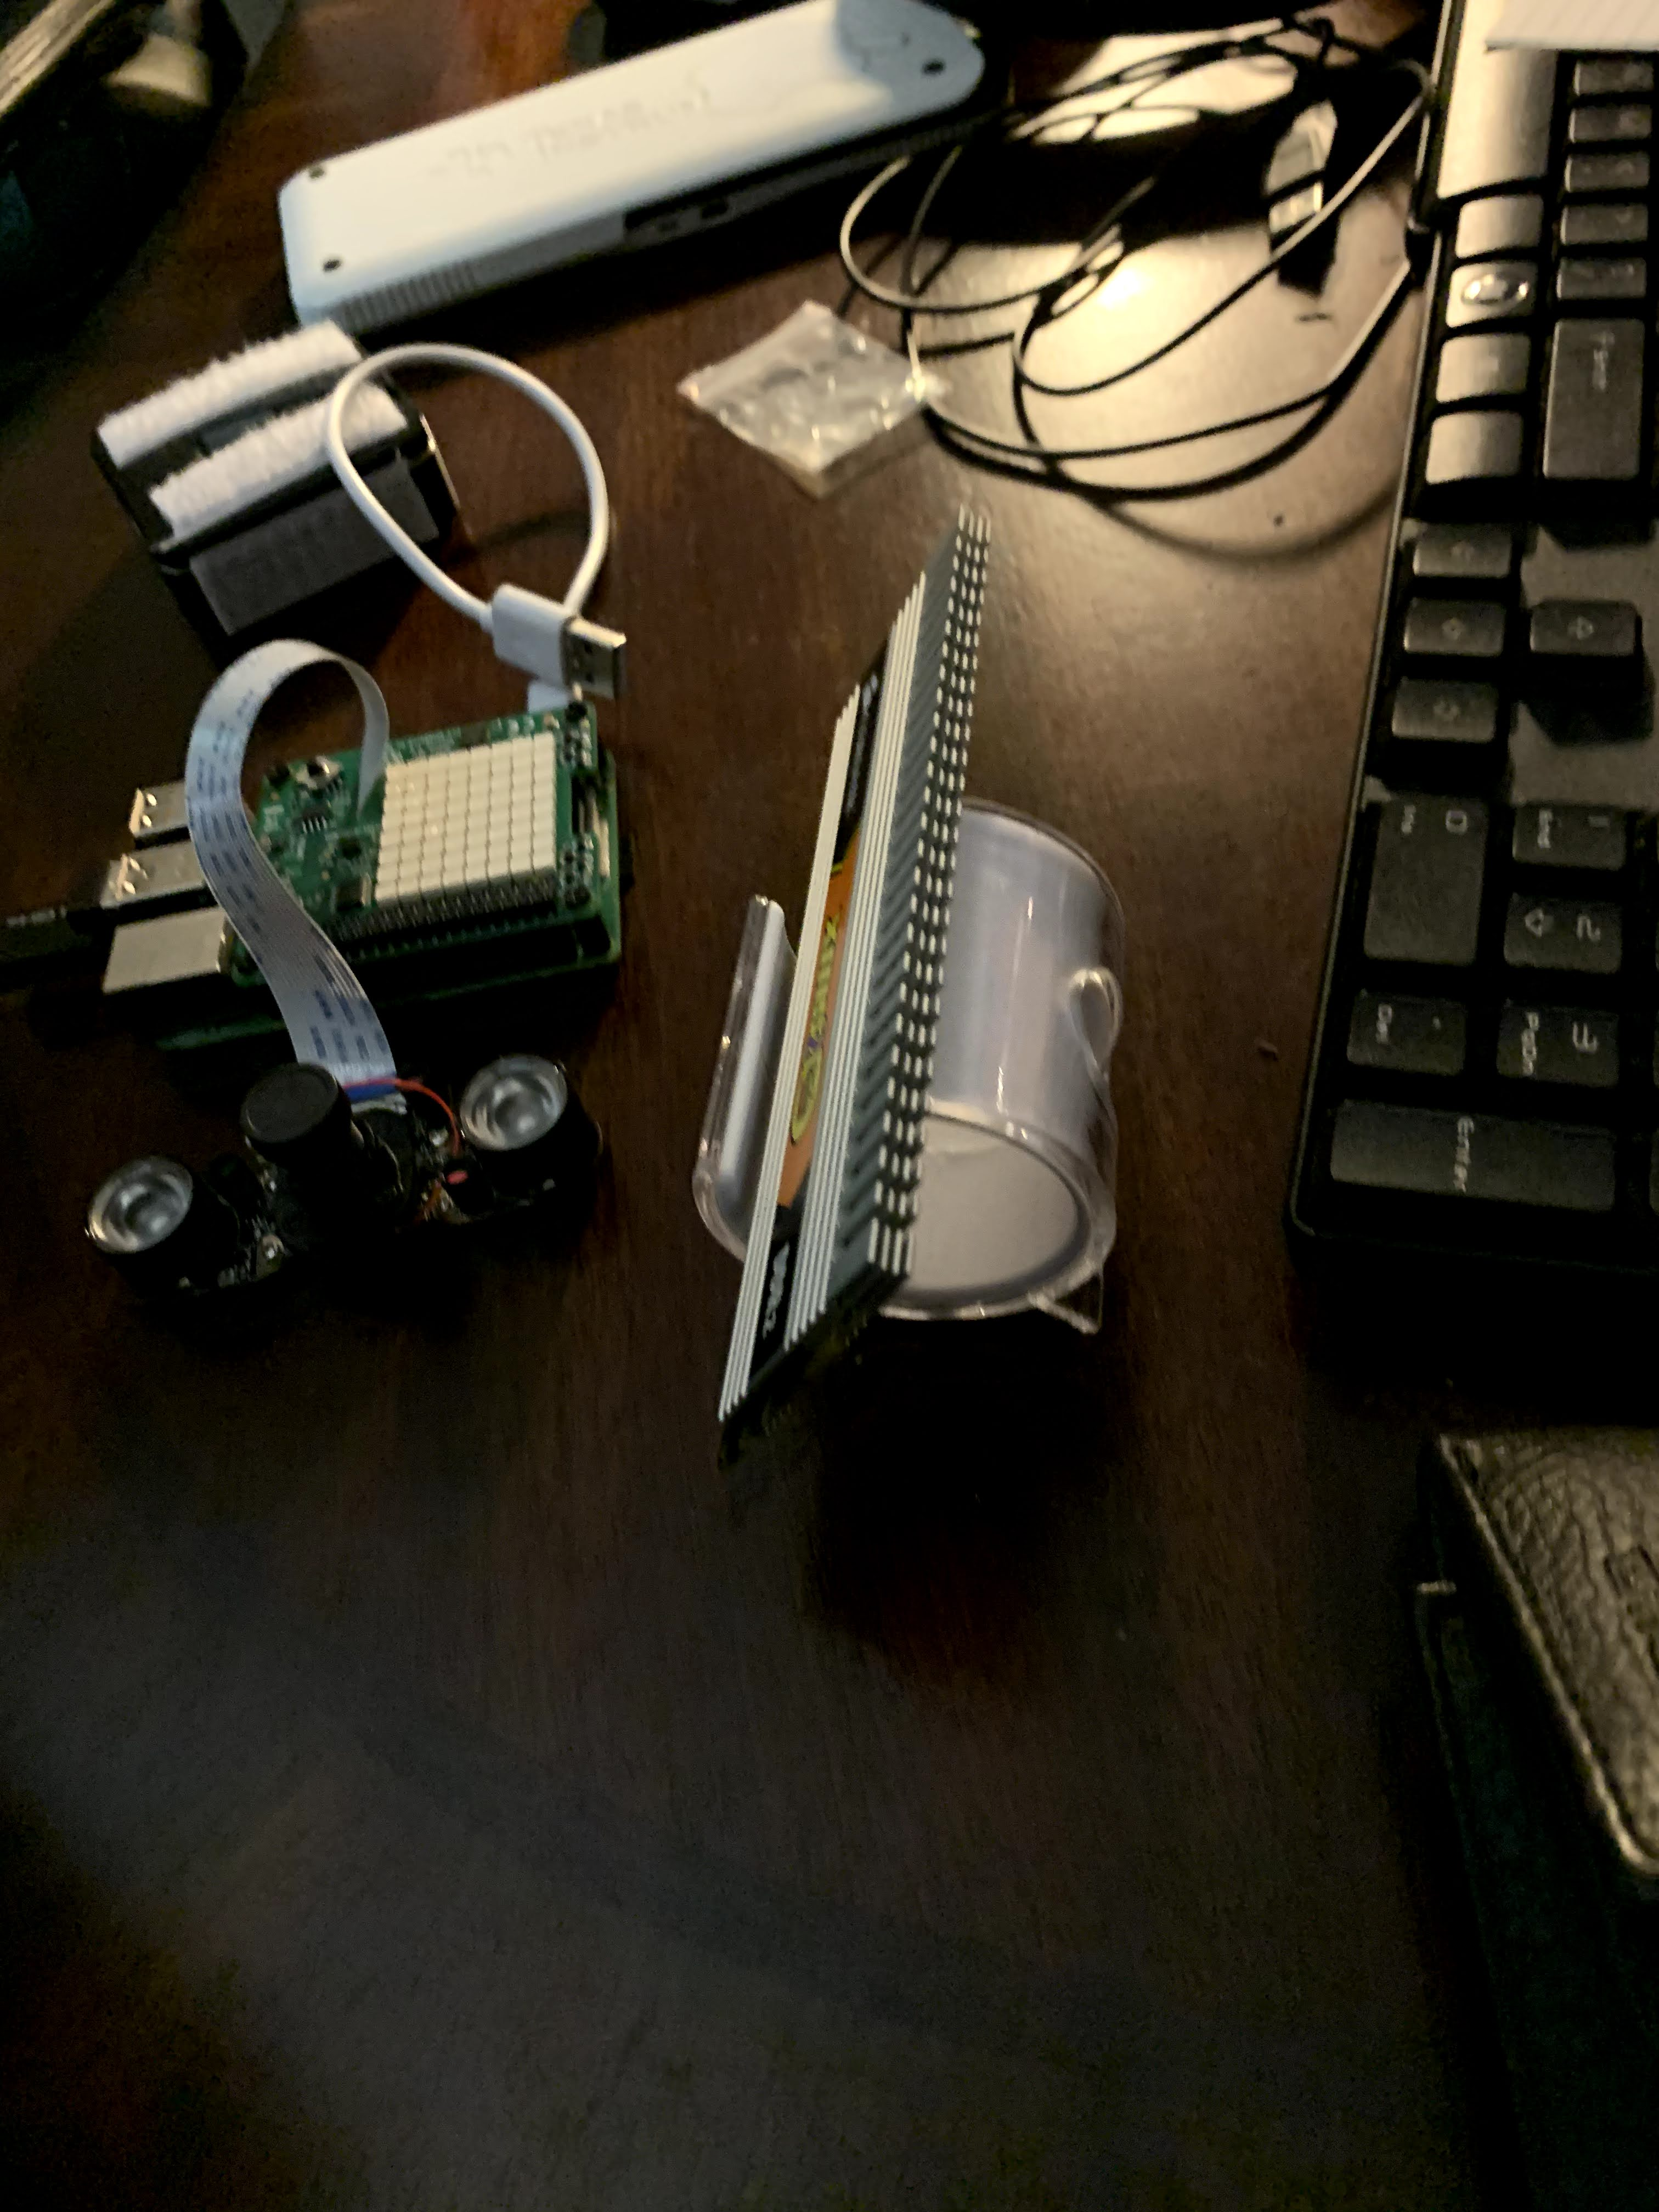Space-debris-medium: (702, 503, 1000, 1489)
